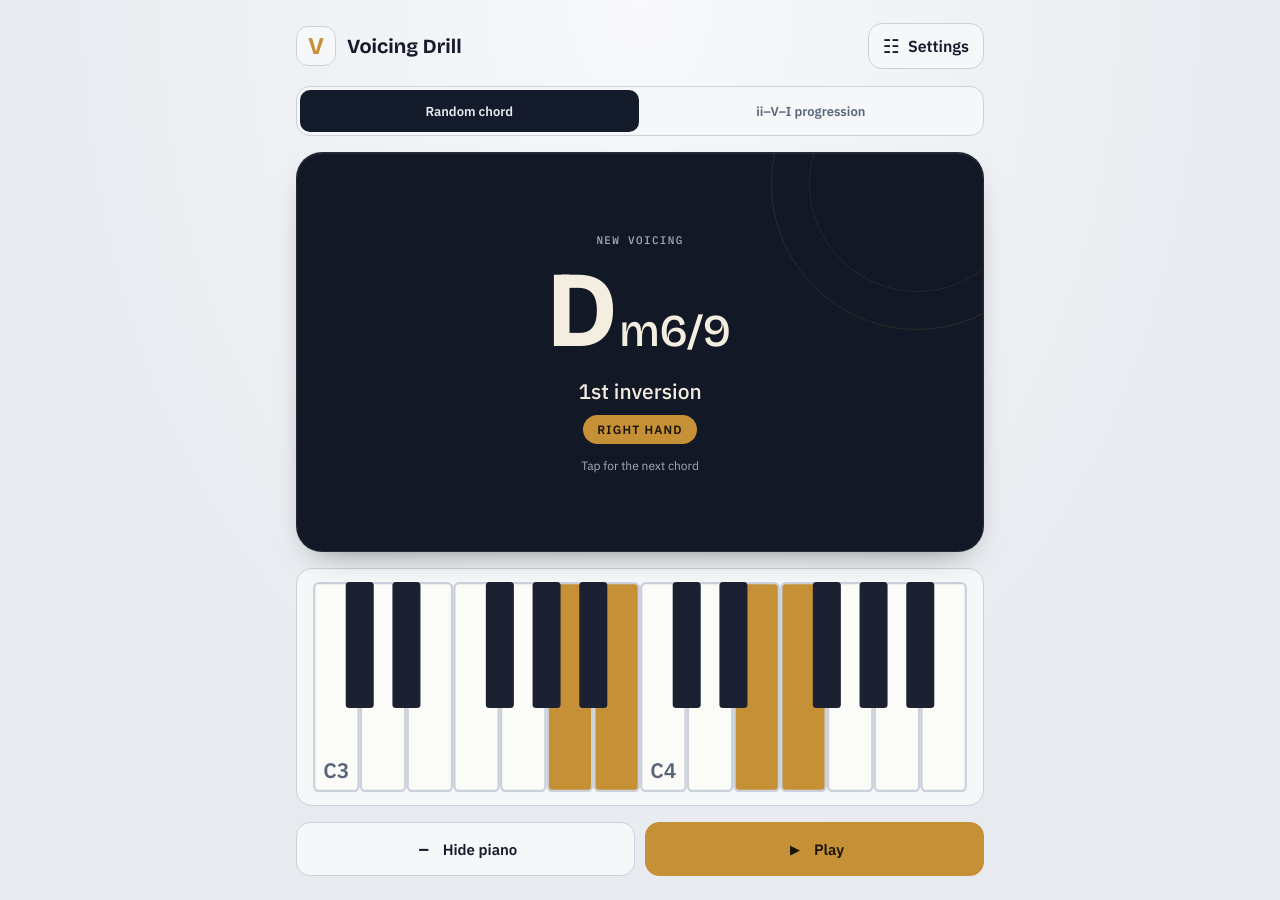
Test case: PracticeScreen › updates the displayed progression when its key changes in settings
Click the button "ii–V–I progression": (811, 111) [642,90,980,132]
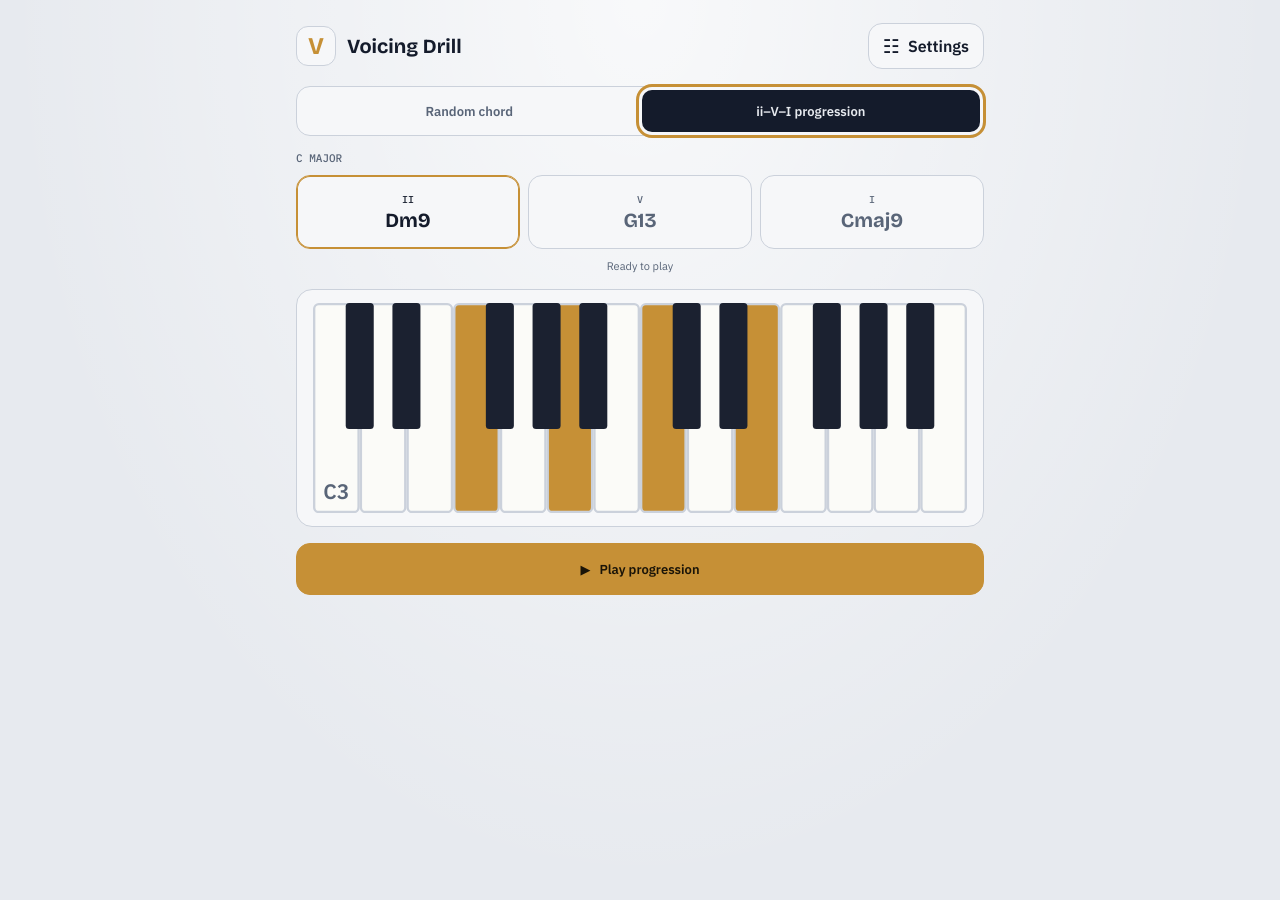
Click the button "☷ Settings": (926, 46) [868,23,984,69]
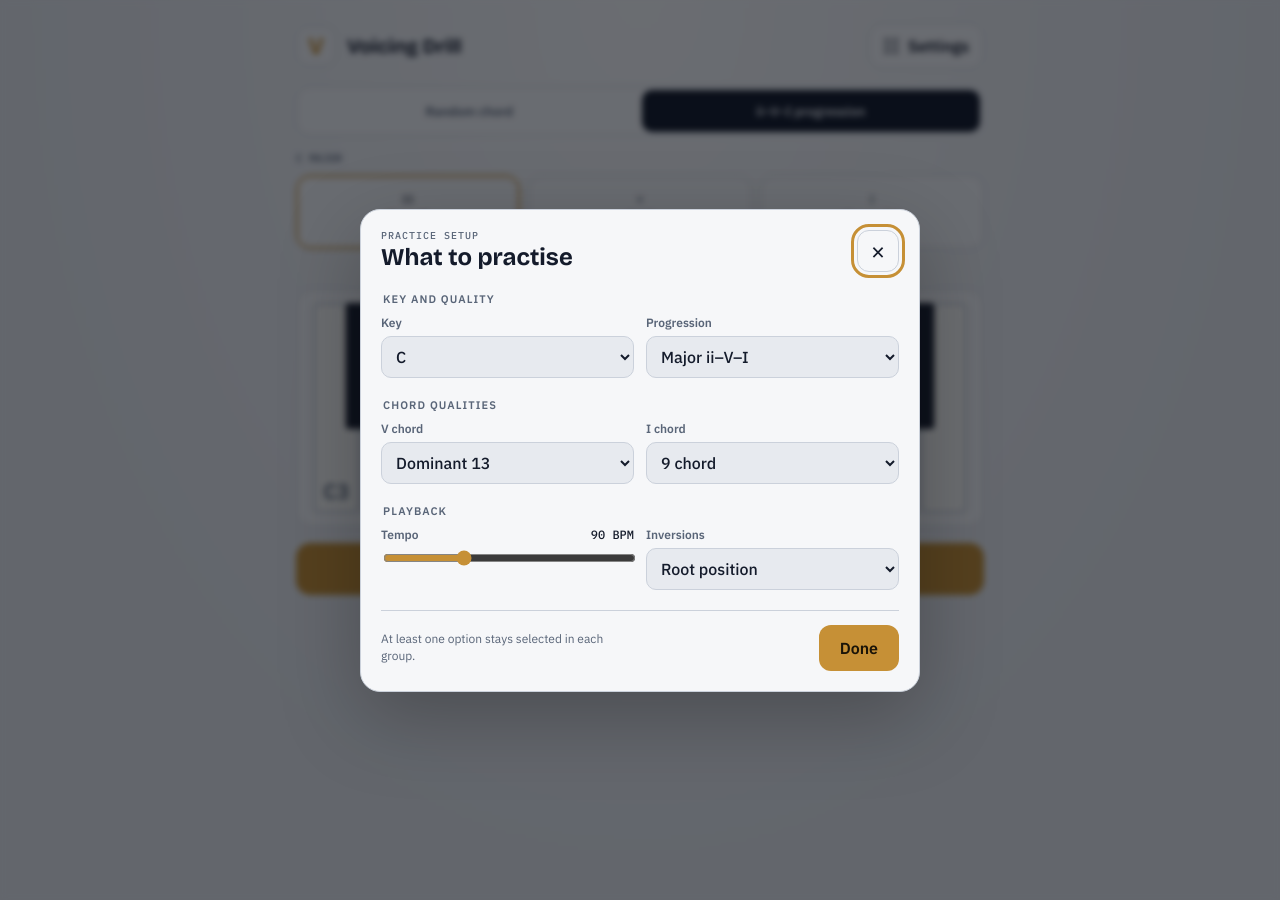
Select "A♭" in the dropdown labelled "Key": (508, 356) [381,336,634,378]
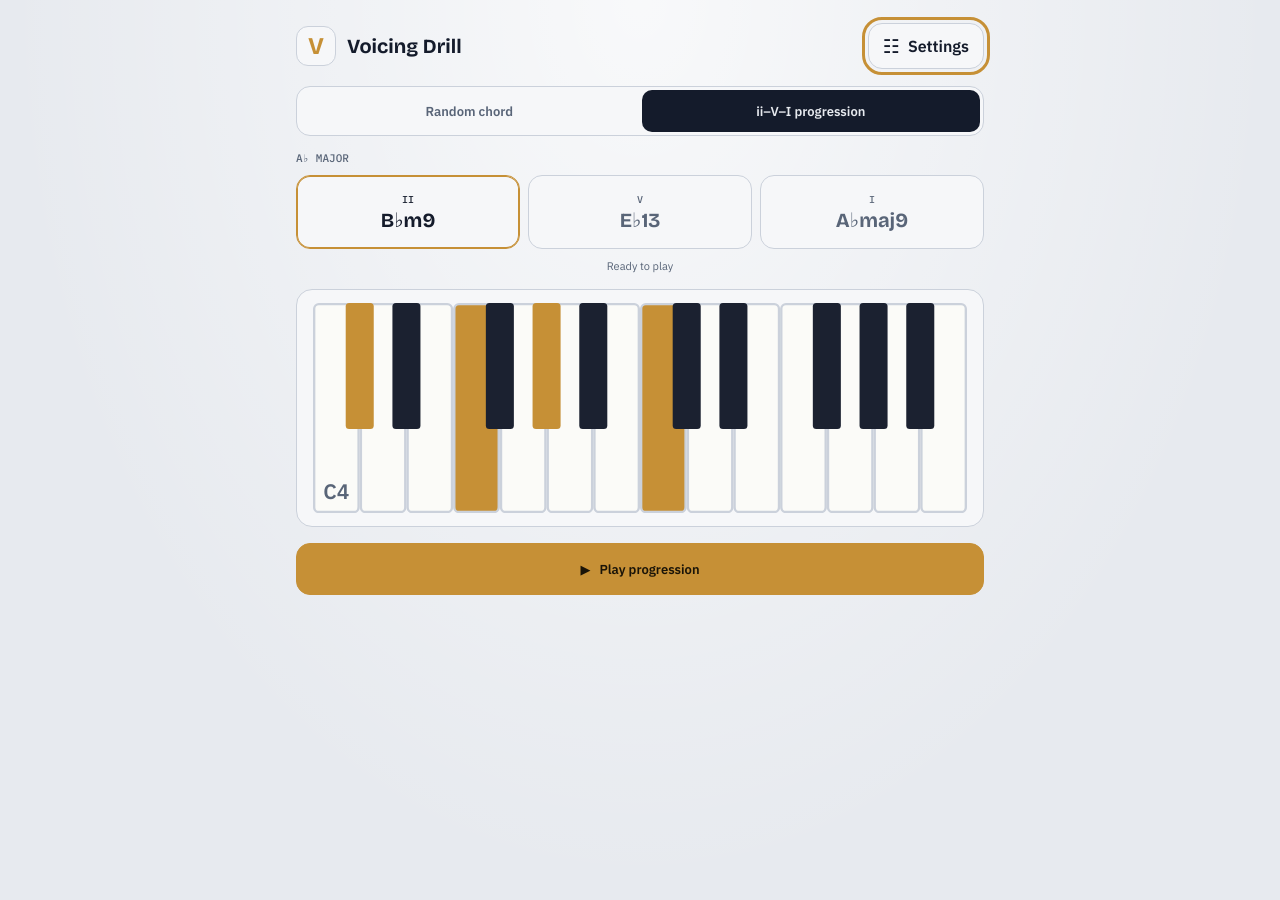
expect the element named "A♭ major ii V I progression" is shown: met, box [296,152,984,273]
expect the text "B♭m9" is shown: met, box [381,209,435,231]
expect the text "E♭13" is shown: met, box [620,209,660,231]
